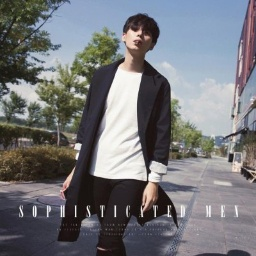face: (122, 15, 159, 54)
